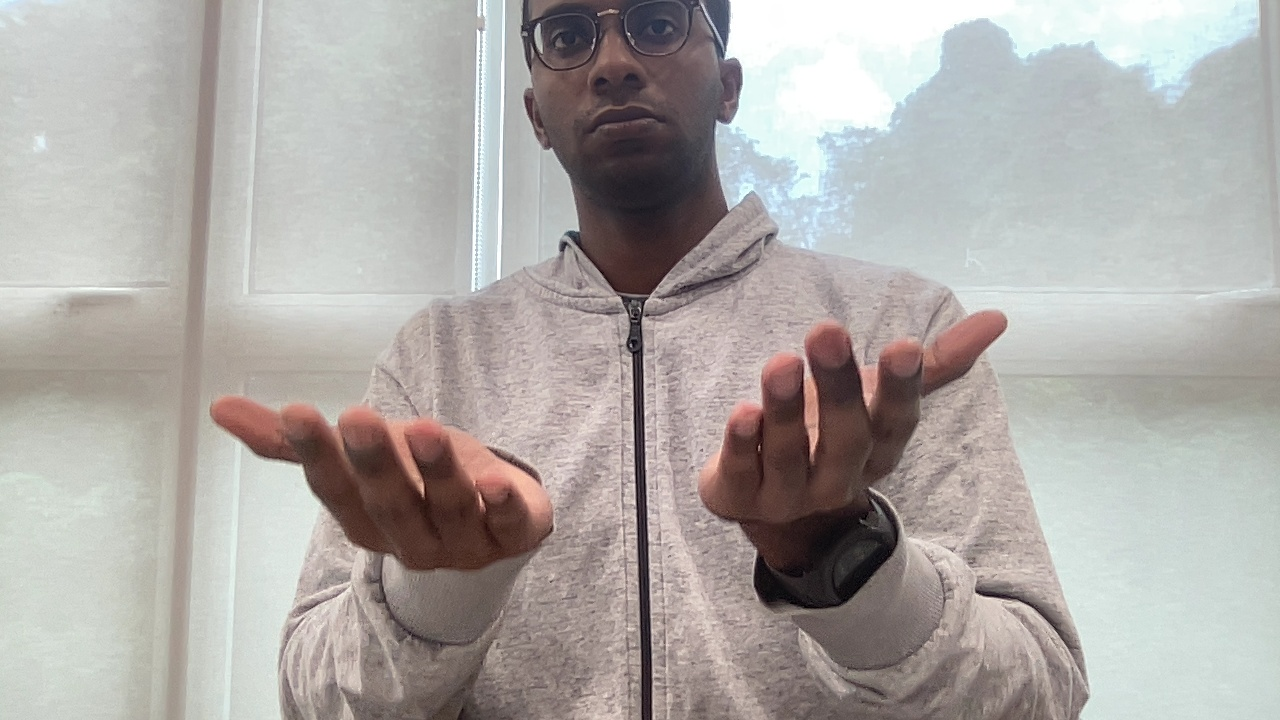give: (200, 307, 1008, 572)
